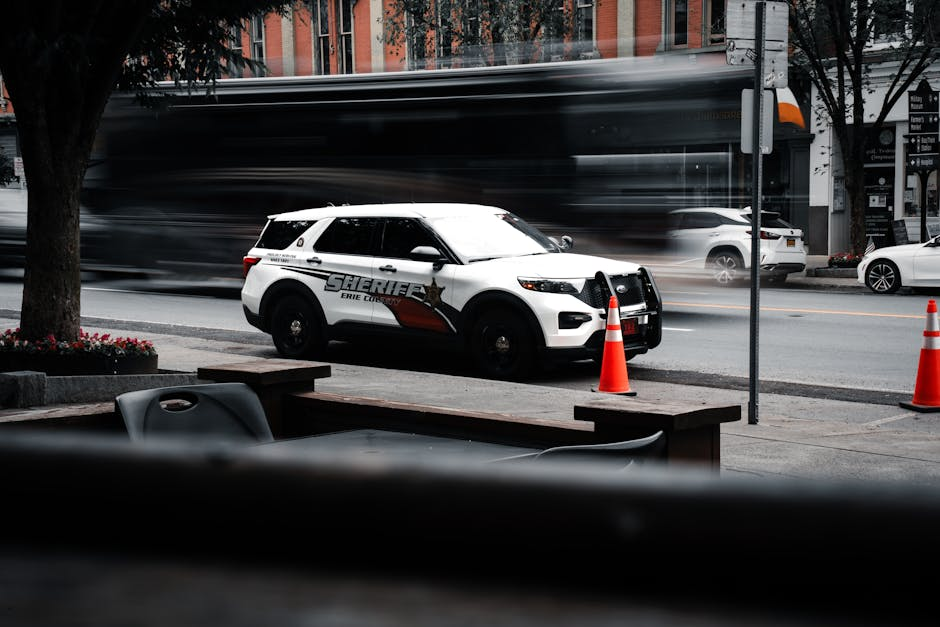traffic_cone: (590, 295, 638, 396), (898, 298, 939, 413)
